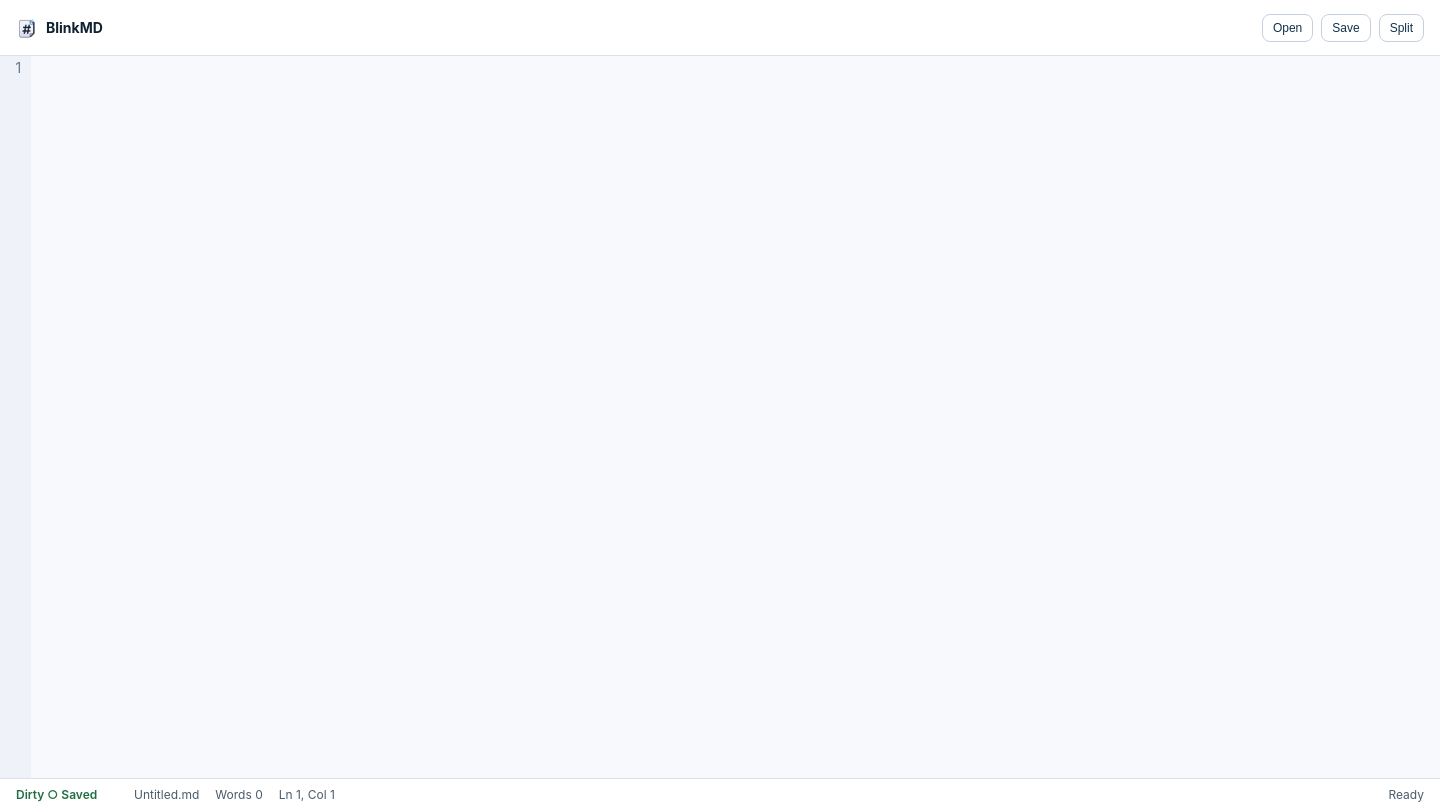
Test: App › switches to preview mode after opening a file
The image size is (1440, 810).
What coordinates should you click on to do the following:
click the button "Open"
I would click on:
 (1288, 28)
Its box is [1262, 14, 1313, 42].
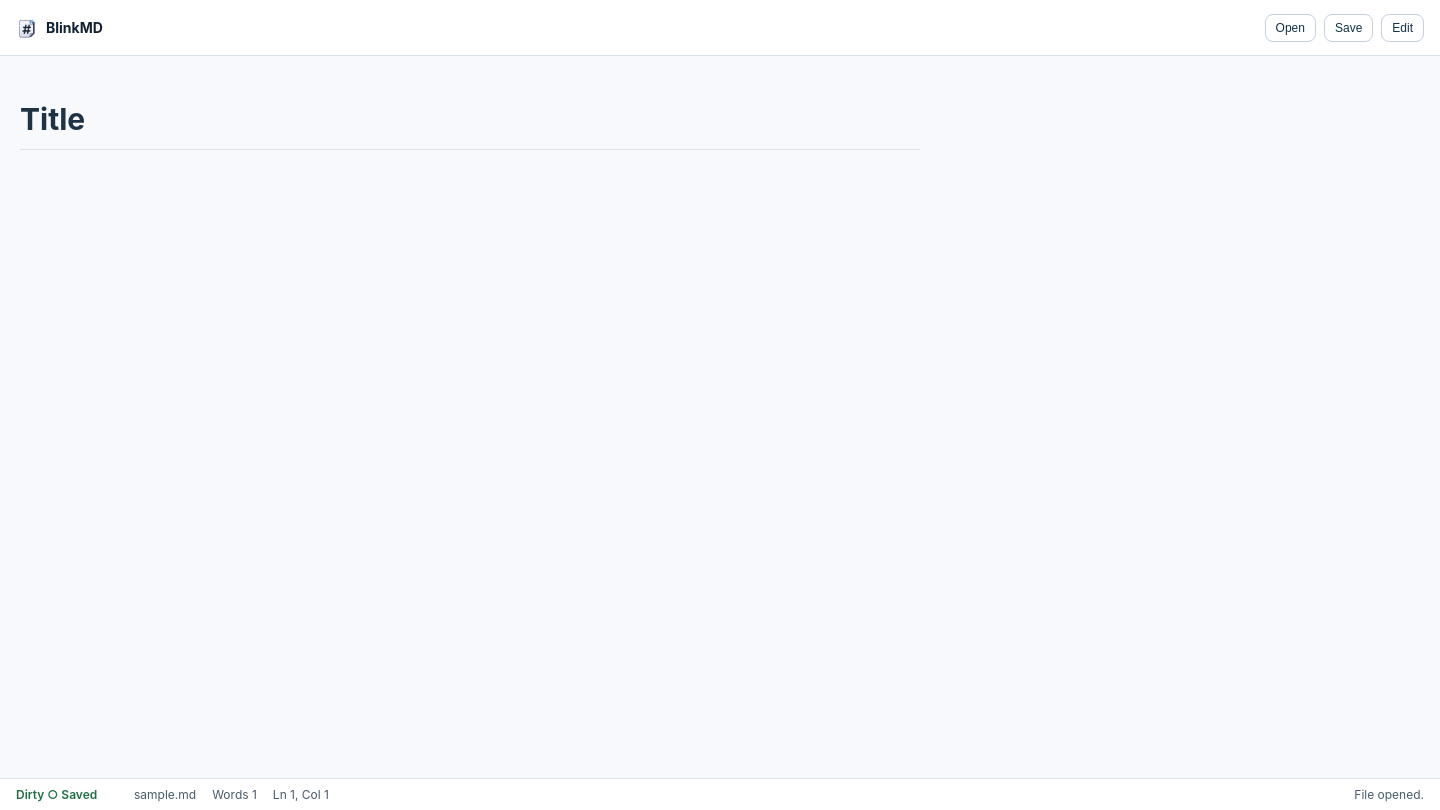
Expected: the element named "markdown-preview" is shown, [20, 100, 920, 150]
Expected: the field labelled "markdown-editor" is gone
